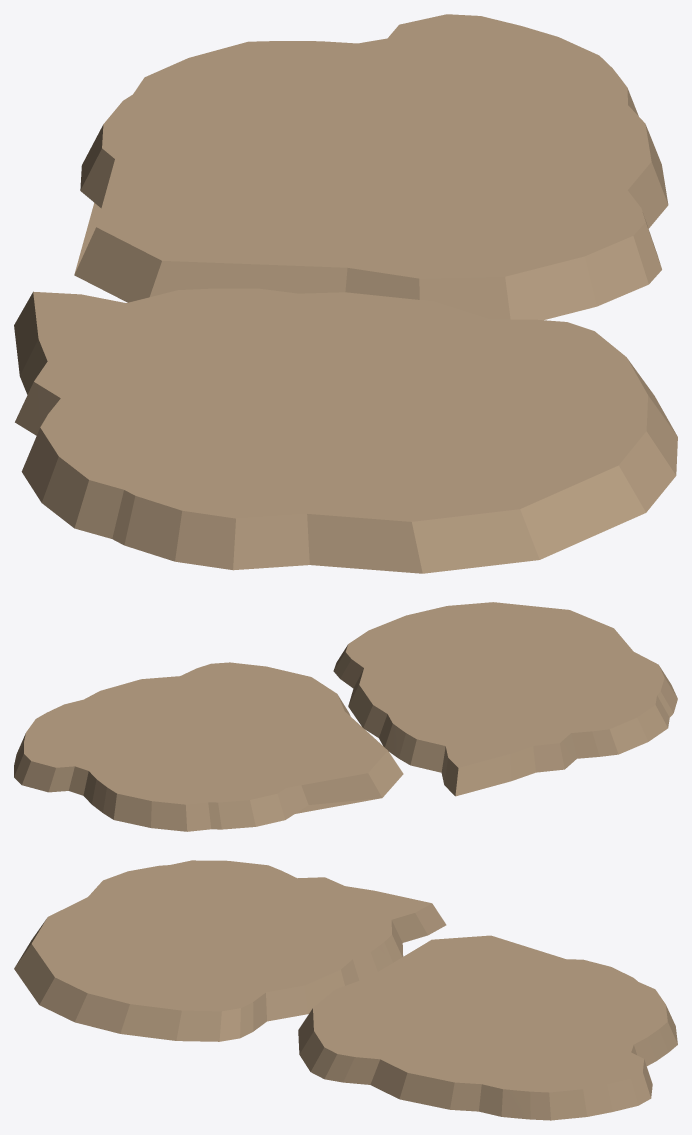
Rendered from IslandNew.fbx.
3 renders of one model, top to bottom at view 1: azimuth 30°, elevation 25°; view 2: azimuth 150°, elevation 25°; view 3: azimuth 270°, elevation 25°, orthographic. The views are drawn at different scales.
Parts seen in each view (by area): view 1: IslandR, IslandL; view 2: IslandL, IslandR; view 3: IslandR, IslandL.
Part boxes in pixels (x1,y1,x2,y2): IslandR: (14,288,677,573); IslandL: (74,14,668,320); IslandL: (14,662,403,831); IslandR: (333,602,677,796); IslandR: (14,860,446,1041); IslandL: (298,935,677,1120).
Size of the model in its own units: 5004 by 230 by 5811.
